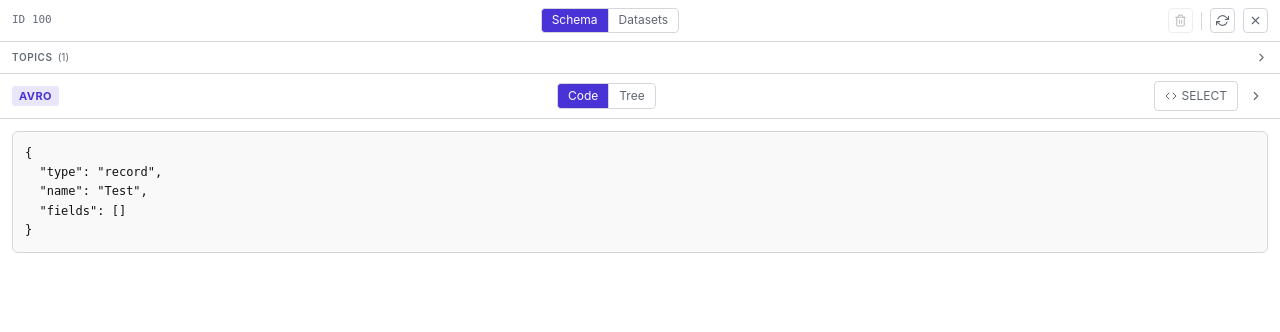
[@schema-topics] Topics section in SchemaDetail › 2b. renders topic names from -key subjects
The width and height of the screenshot is (1280, 332).
Click the text "Topics". click: (32, 58)
box: [12,50,53,65]
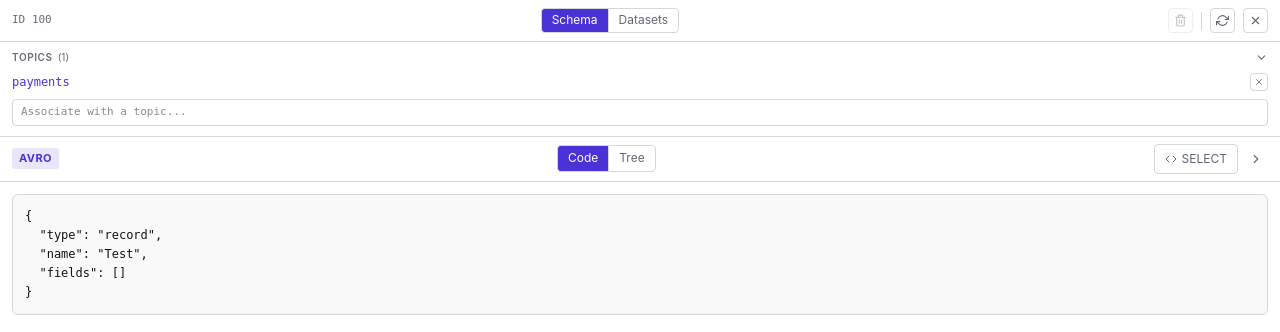
Result: the button "payments" is shown at [12,73,1244,91]
